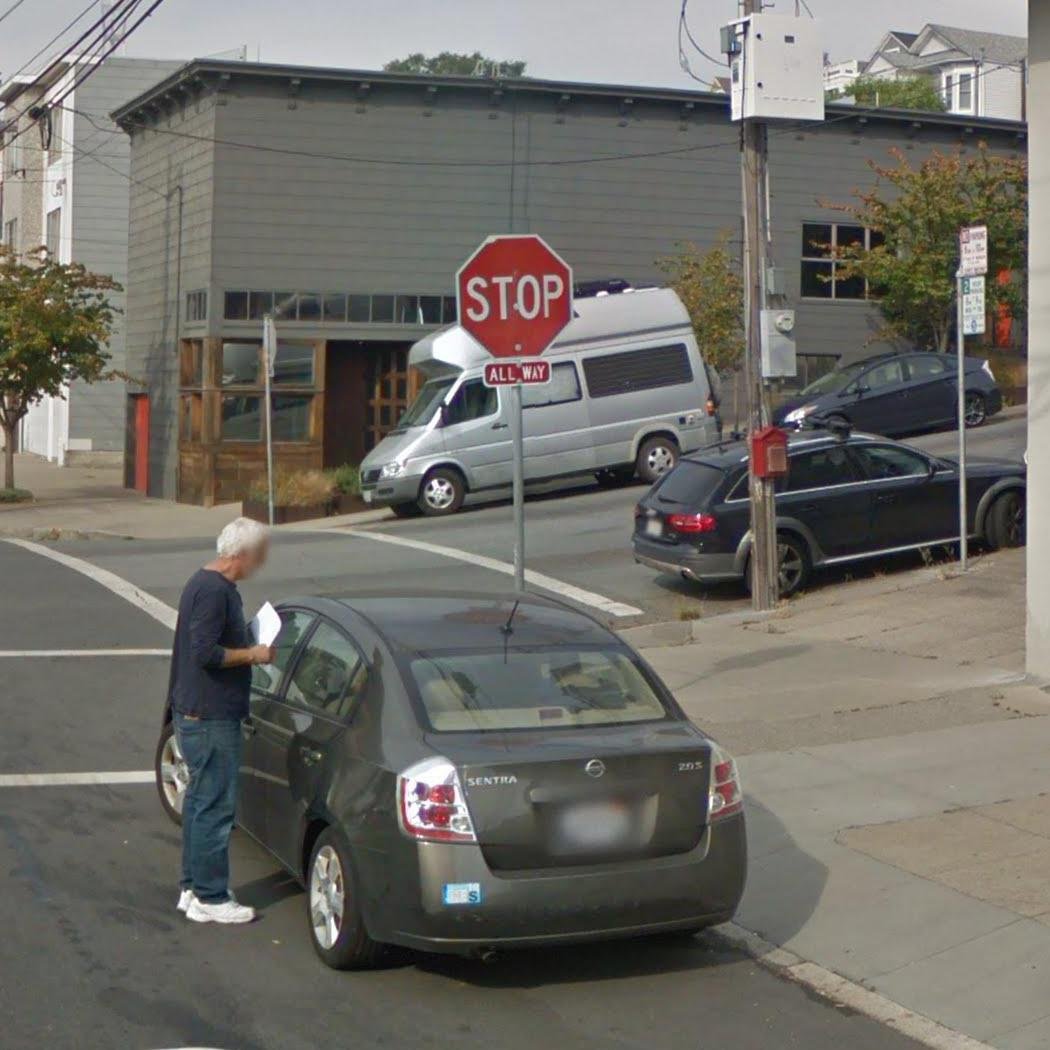2 Hour Parking: (958, 275, 987, 337)
No Parking: (956, 224, 990, 276)
